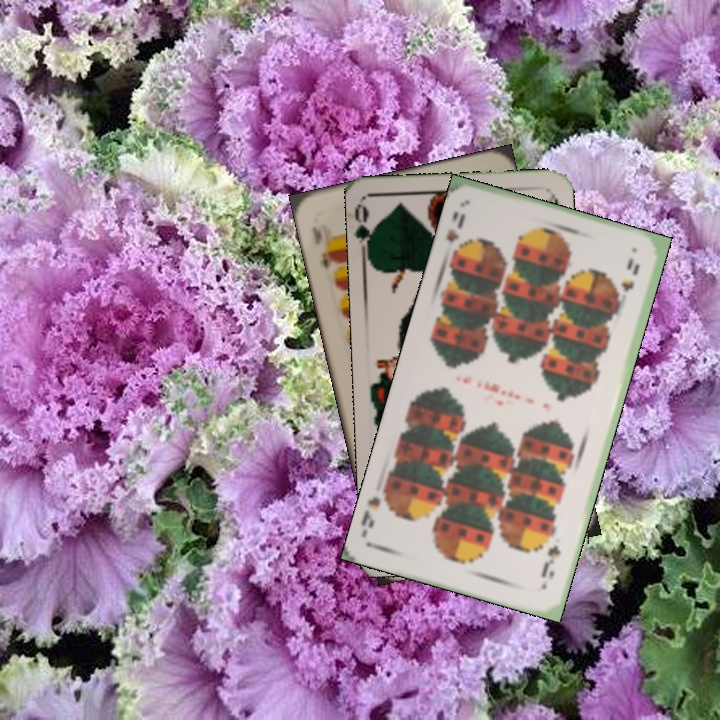E10: (308, 222, 339, 271)
GO: (352, 201, 380, 261)
S9: (442, 209, 468, 261), (537, 541, 564, 582)
